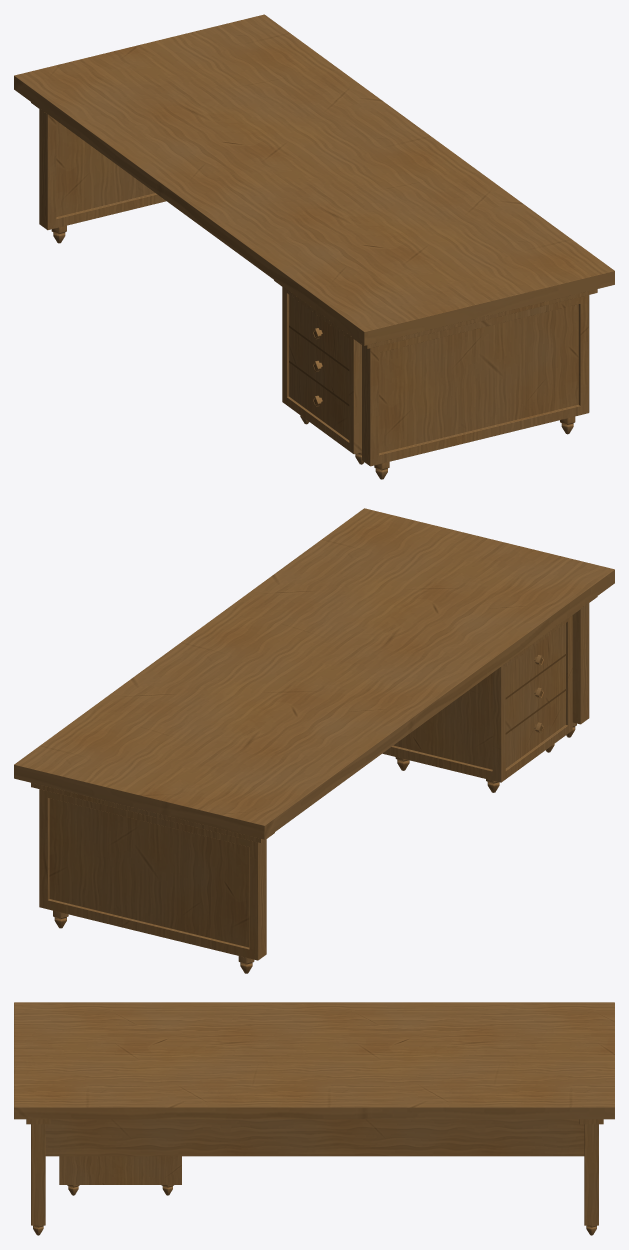
Rendered from desk.glb.
3 renders of one model, top to bottom at view 1: azimuth 30°, elevation 25°; view 2: azimuth 150°, elevation 25°; view 3: azimuth 270°, elevation 25°, orthographic. The views are drawn at different scales.
Parts seen in each view (by area): view 1: Desk.002; view 2: Desk.002; view 3: Desk.002.
Part boxes in pixels (<box>): Desk.002: <box>14,14,614,479</box>; Desk.002: <box>14,508,614,973</box>; Desk.002: <box>14,1002,614,1235</box>.
Size of what is drawn, in the model's own units: 1.41 by 0.8835 by 3.4.
Materials: 1 (1 with a texture image).
